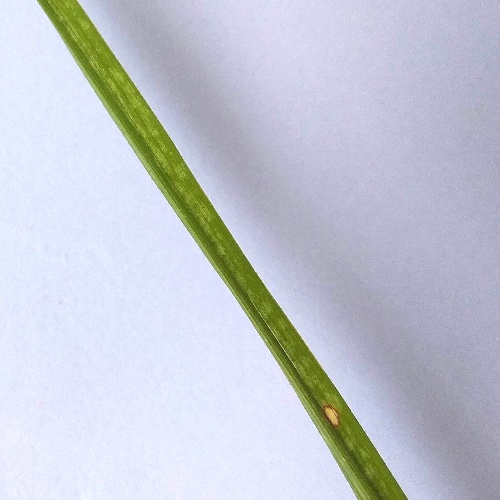Busuk Leher: (318, 397, 342, 432)
